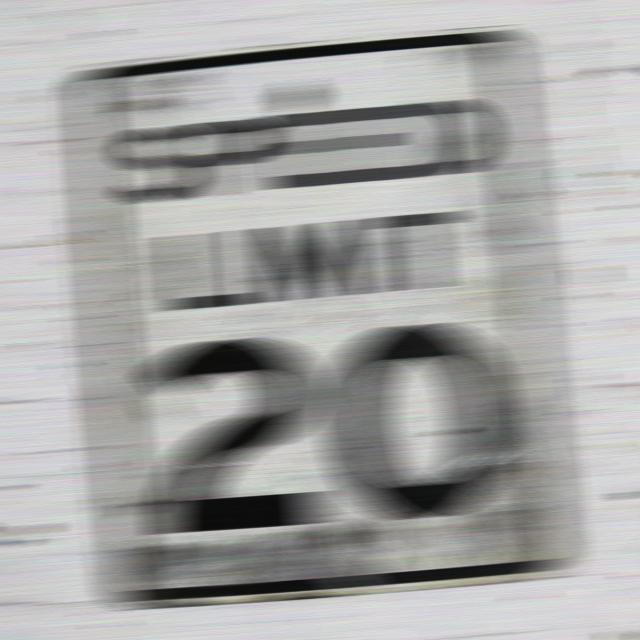speedLimit20: (70, 69, 573, 609)
